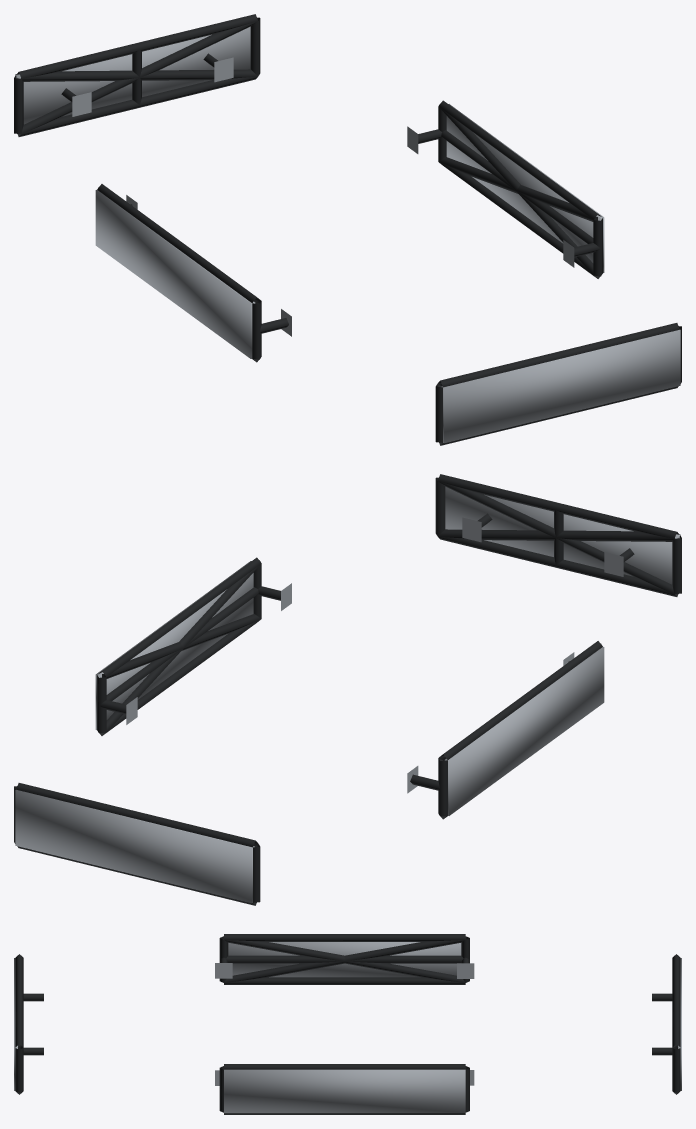
File: vorhaus_bolota_protecao.glb
The picture shows the model from 3 angles, top to bottom: view 1: azimuth 30°, elevation 25°; view 2: azimuth 150°, elevation 25°; view 3: azimuth 270°, elevation 25°; orthographic projection. The views are drawn at different scales.
Visible parts, largest first — view 1: Protection_front_Level3_Details, Protection_left_Level3_Details, Protection_rear_Level1_Details, Protection_rear_Level3_Details, Protection_right_Level1_Details, Protection_rear_Level2_Details, Protection_right_Level2_Details, Protection_right_Level3_Details, Protection_front_Level1_Details, Protection_left_Level1_Details; view 2: Protection_rear_Level3_Details, Protection_left_Level3_Details, Protection_front_Level1_Details, Protection_front_Level3_Details, Protection_right_Level1_Details, Protection_front_Level2_Details, Protection_right_Level2_Details, Protection_right_Level3_Details, Protection_rear_Level1_Details, Protection_left_Level1_Details; view 3: Protection_right_Level3_Details, Protection_left_Level2_Details, Protection_left_Level1_Details, Protection_left_Level3_Details, Protection_right_Level1_Details, Protection_rear_Level1_Details, Protection_front_Level1_Details.
Boxes of the visible parts, x1,y1,x2,y2 form: Protection_front_Level3_Details: (441, 329, 680, 443); Protection_left_Level3_Details: (95, 190, 255, 358); Protection_rear_Level1_Details: (14, 14, 260, 136); Protection_rear_Level3_Details: (15, 26, 250, 124); Protection_right_Level1_Details: (407, 100, 602, 278); Protection_rear_Level2_Details: (16, 21, 257, 136); Protection_right_Level2_Details: (439, 107, 601, 278); Protection_right_Level3_Details: (446, 104, 604, 272); Protection_front_Level1_Details: (435, 323, 681, 445); Protection_left_Level1_Details: (97, 184, 291, 362); Protection_rear_Level3_Details: (15, 789, 254, 903); Protection_left_Level3_Details: (444, 647, 604, 815); Protection_front_Level1_Details: (435, 474, 681, 596); Protection_front_Level3_Details: (445, 486, 680, 584); Protection_right_Level1_Details: (97, 557, 291, 735); Protection_front_Level2_Details: (438, 481, 679, 596); Protection_right_Level2_Details: (97, 564, 261, 735); Protection_right_Level3_Details: (95, 561, 253, 729); Protection_rear_Level1_Details: (14, 783, 260, 905); Protection_left_Level1_Details: (407, 641, 602, 819); Protection_right_Level3_Details: (224, 1069, 465, 1113); Protection_left_Level2_Details: (223, 937, 465, 982); Protection_left_Level1_Details: (215, 934, 474, 984); Protection_left_Level3_Details: (228, 942, 461, 977); Protection_right_Level1_Details: (215, 1064, 474, 1114); Protection_rear_Level1_Details: (652, 954, 680, 1094); Protection_front_Level1_Details: (15, 954, 43, 1094).
Bounding box in the file's own units: 2 × 0.354 × 4.2.
1 material, 1 textured.
